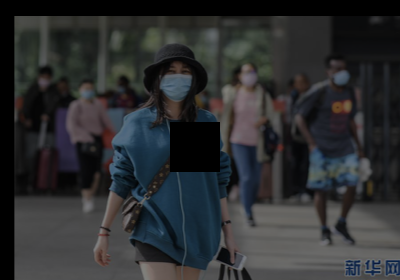with_mask: (158, 64, 194, 101), (332, 64, 352, 88), (238, 69, 258, 89), (80, 84, 97, 101), (39, 73, 51, 89)
